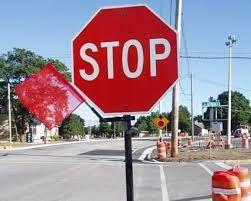stop_sign: (70, 3, 180, 115)
